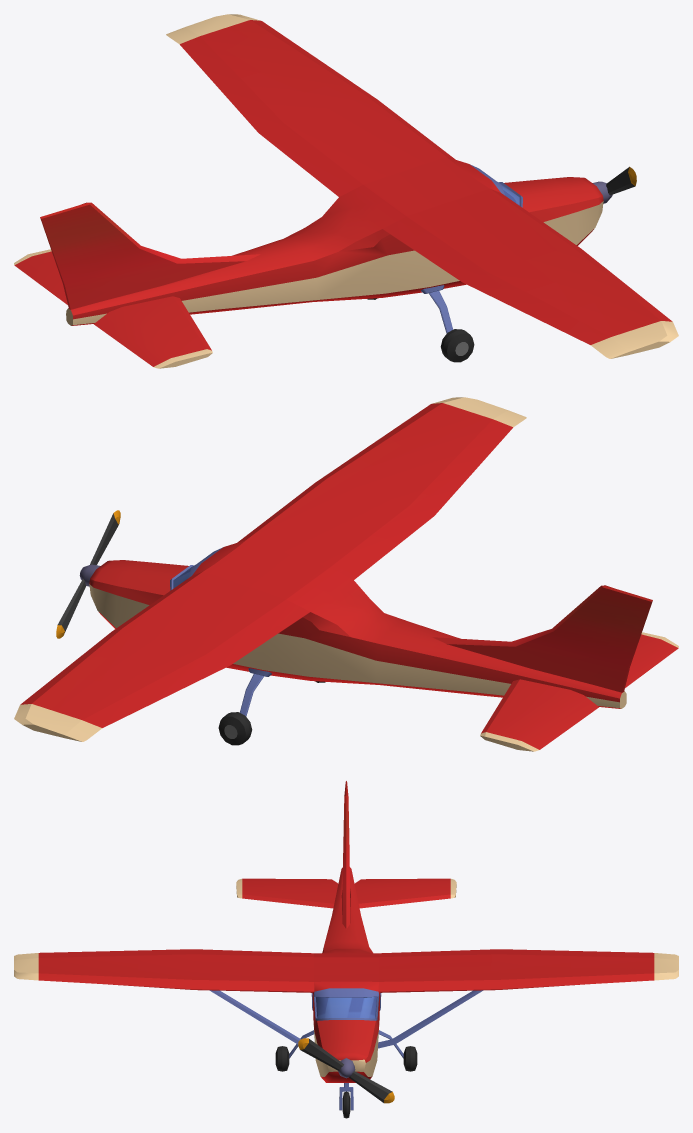
The picture shows the model from 3 angles, top to bottom: view 1: azimuth 30°, elevation 25°; view 2: azimuth 150°, elevation 25°; view 3: azimuth 270°, elevation 25°; orthographic projection. The views are drawn at different scales.
Parts seen in each view (by area): view 1: Plane_2_D, Propeler; view 2: Plane_2_D, Propeler; view 3: Plane_2_D, Propeler.
Boxes of the visible parts, x1,y1,x2,y2 form: Plane_2_D: [14, 14, 678, 368]; Propeler: [606, 166, 636, 195]; Plane_2_D: [14, 397, 678, 751]; Propeler: [56, 510, 120, 638]; Plane_2_D: [14, 781, 678, 1118]; Propeler: [298, 1038, 394, 1103].
Size of the model in its own units: 1241 by 429 by 1666.
